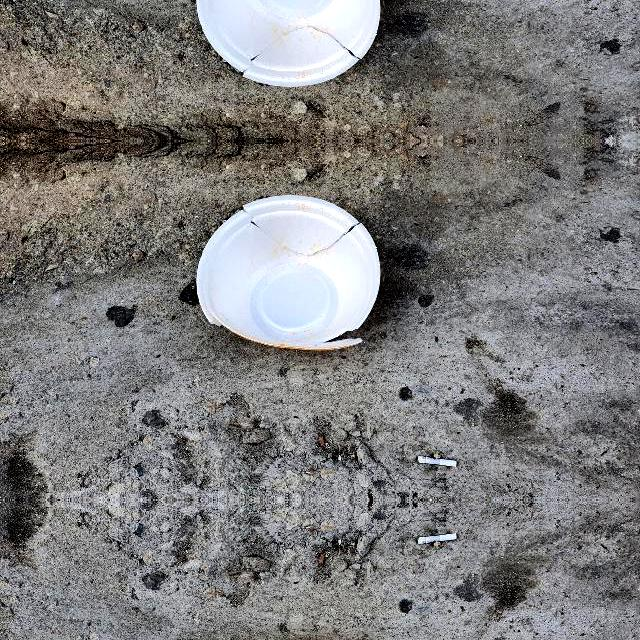Styrofoam: (196, 194, 381, 349), (197, 194, 381, 348), (196, 0, 381, 86), (197, 0, 381, 86)
